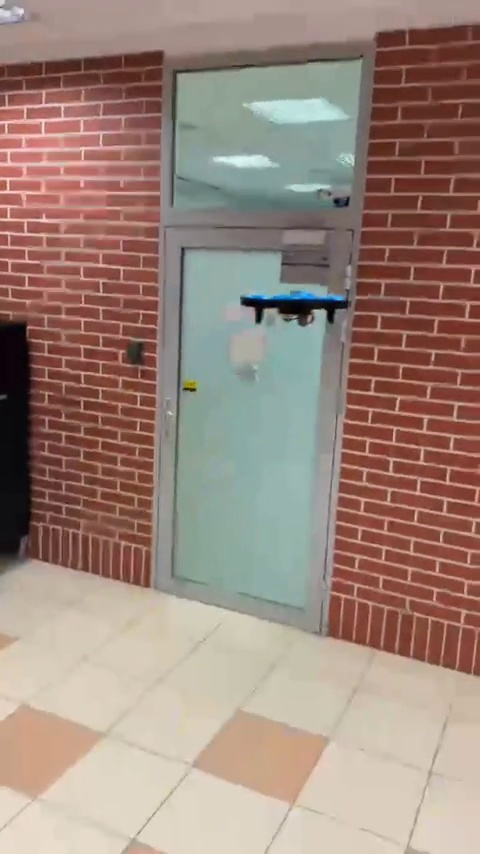drone: (240, 291, 352, 327)
